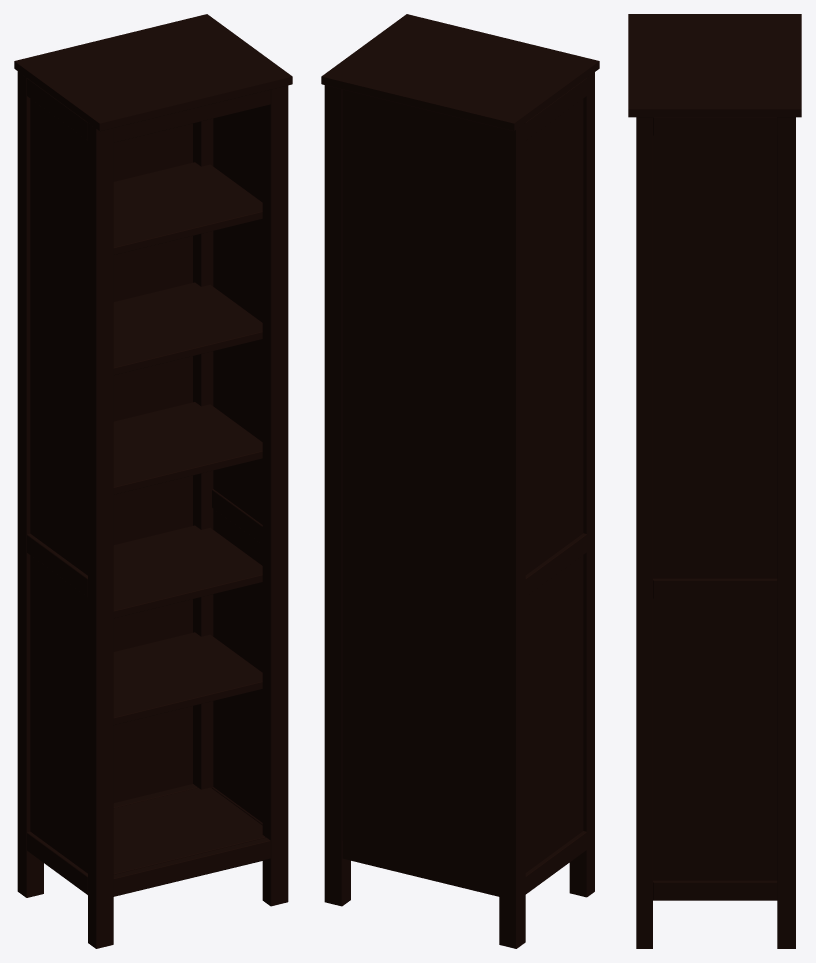
Rendered from shelf.glb.
3 views of the same model, side by side, from view 1: azimuth 30°, elevation 25°; view 2: azimuth 150°, elevation 25°; view 3: azimuth 270°, elevation 25° (orthographic).
Visible parts, largest first — view 1: Object_2; view 2: Object_2; view 3: Object_2.
Part boxes in pixels (bbox=[...]): Object_2: bbox=[14, 14, 292, 948]; Object_2: bbox=[321, 14, 599, 948]; Object_2: bbox=[628, 14, 801, 948].
Size of the model in its own units: 0.482 by 1.98 by 0.37.
